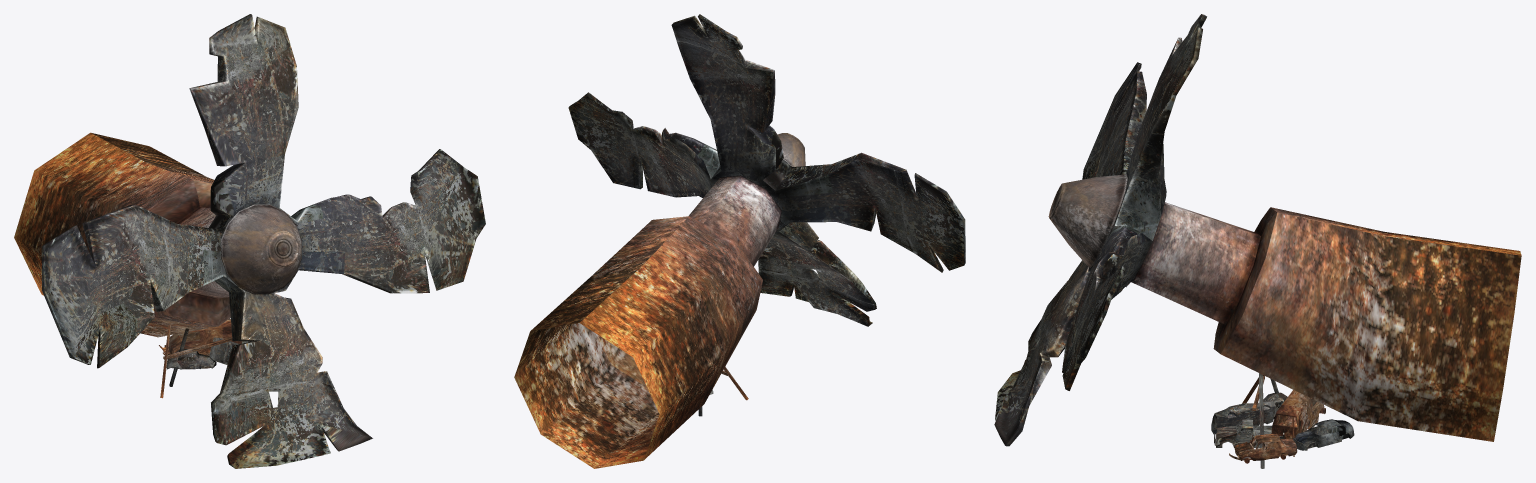
File: Parvaneh.fbx
The picture shows the model from 3 angles, left to right: view 1: azimuth 30°, elevation 25°; view 2: azimuth 150°, elevation 25°; view 3: azimuth 270°, elevation 25°; orthographic projection. The views are drawn at different scales.
Parts seen in each view (by area): view 1: Parvaneh; view 2: Parvaneh; view 3: Parvaneh.
Part boxes in pixels (bbox=[...]): Parvaneh: bbox=[14, 14, 485, 468]; Parvaneh: bbox=[514, 14, 965, 468]; Parvaneh: bbox=[994, 14, 1521, 468].
Size of the model in its own units: 36.26 by 31.63 by 34.82.
